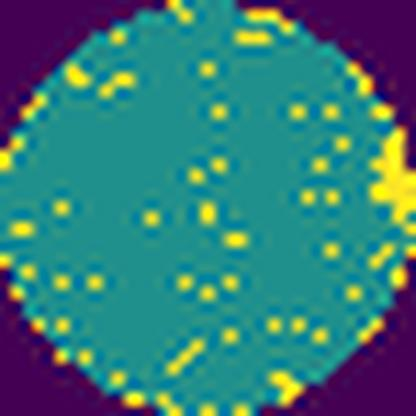Edge-Loc: (367, 126, 416, 221)
